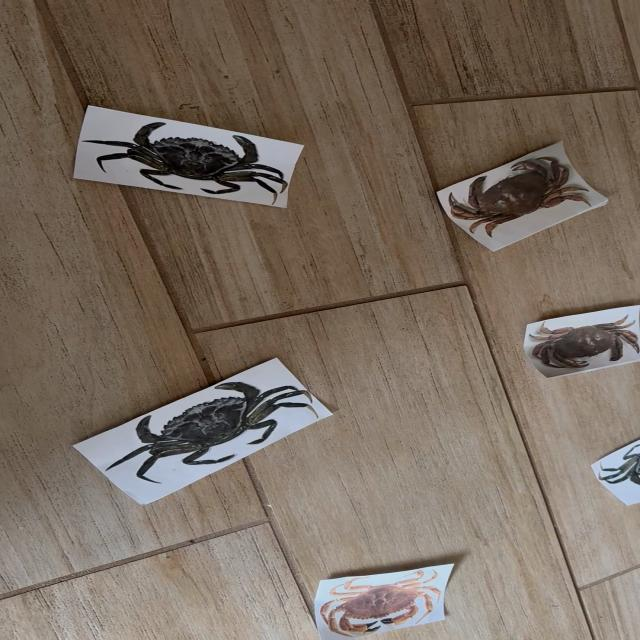egc: (107, 382, 312, 483), (89, 122, 287, 195), (598, 441, 639, 486)
